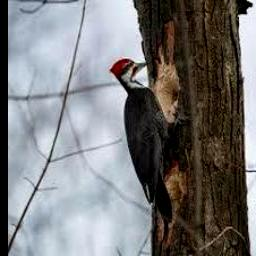Woodpecker: (110, 58, 184, 243)
